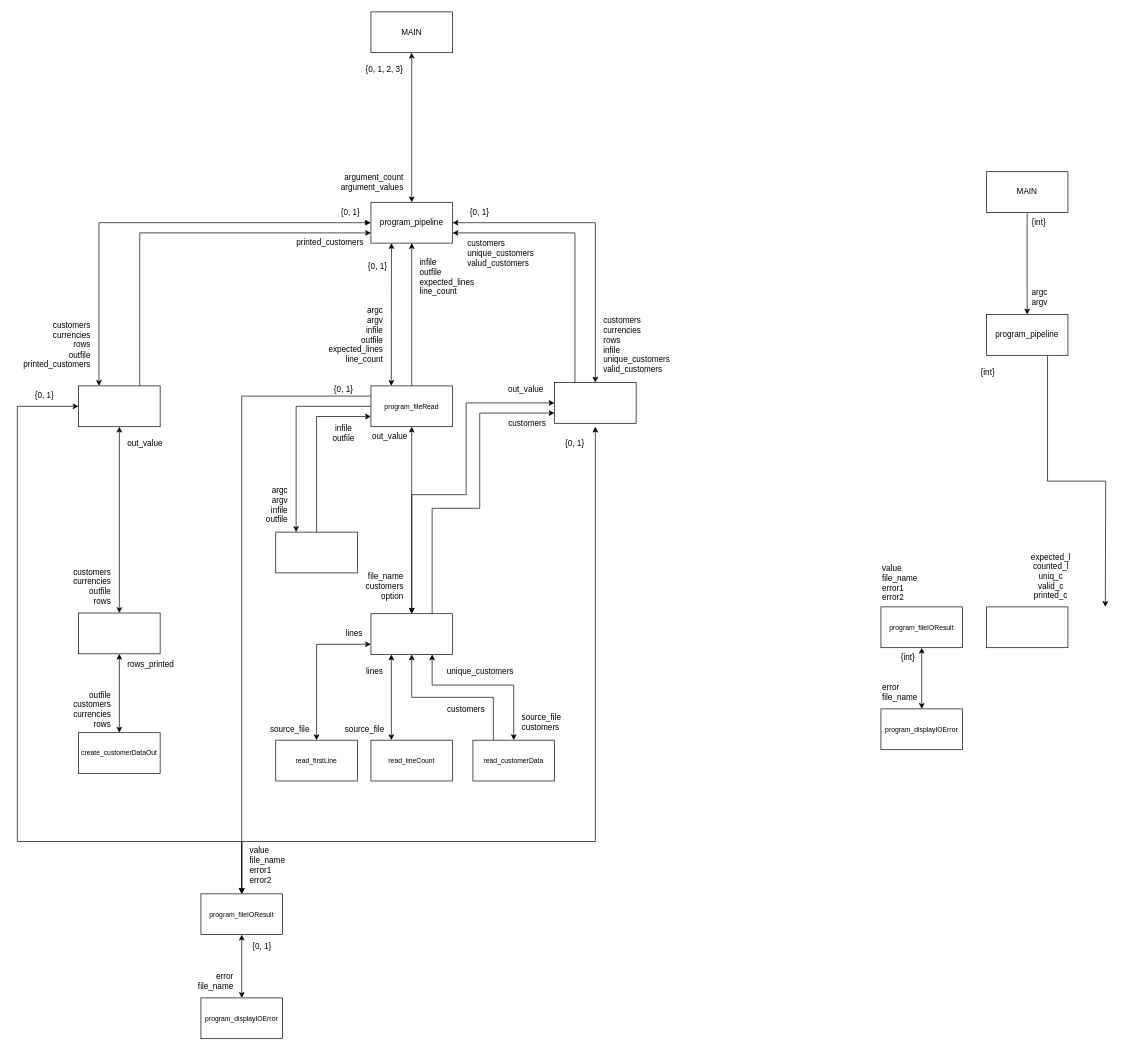
Some shapes in this 1123 by 1051 pixel diagram are drawn without their labels. The centre of each missing label's shape, as x and y in pixels:
create_handleDataOut: (x=119, y=633)
program_displayPipelineValues: (x=1027, y=627)
program_fileWrite: (x=119, y=406)
program_handleArgs: (x=316, y=552)
program_loadData: (x=595, y=402)
read_handleDataIn: (x=411, y=633)
